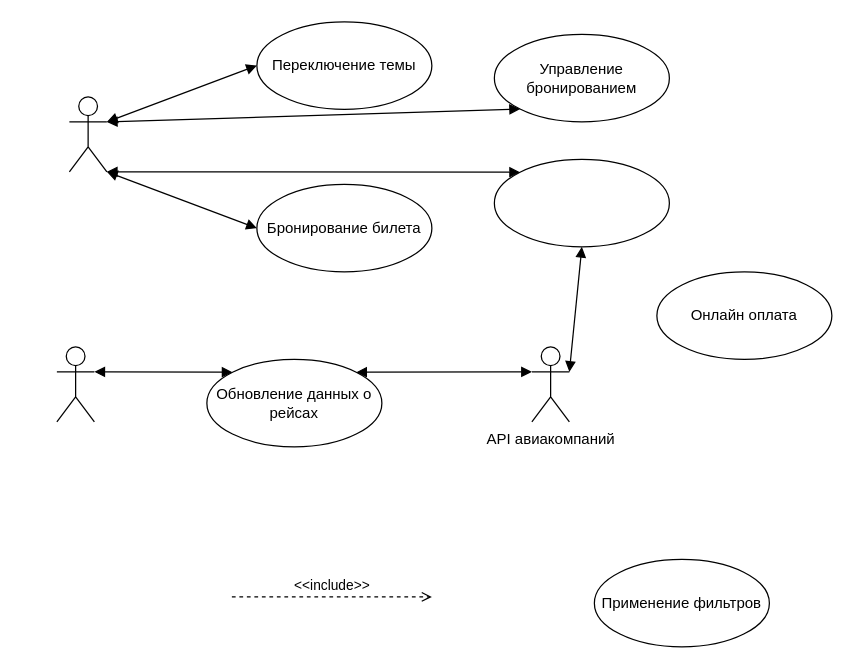
Image size: 854x669. Some labels were removed from this diagram. Here are the shapes that lost their labels. From the top down, the box of each, then its label:
(68, 96, 107, 172): Клиент
(493, 158, 669, 247): Поиск рейсов
(56, 346, 94, 422): Администратор
